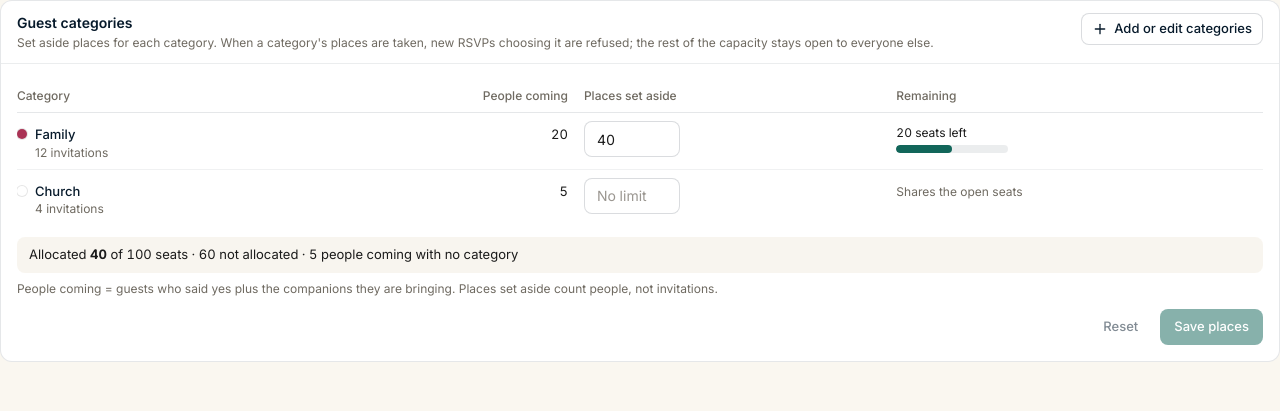
Test case: CategoryAllocations › shows the server message on a category row
Type "6" into the number field named "Places set aside for Church" at (632, 196), box [584, 178, 680, 214]
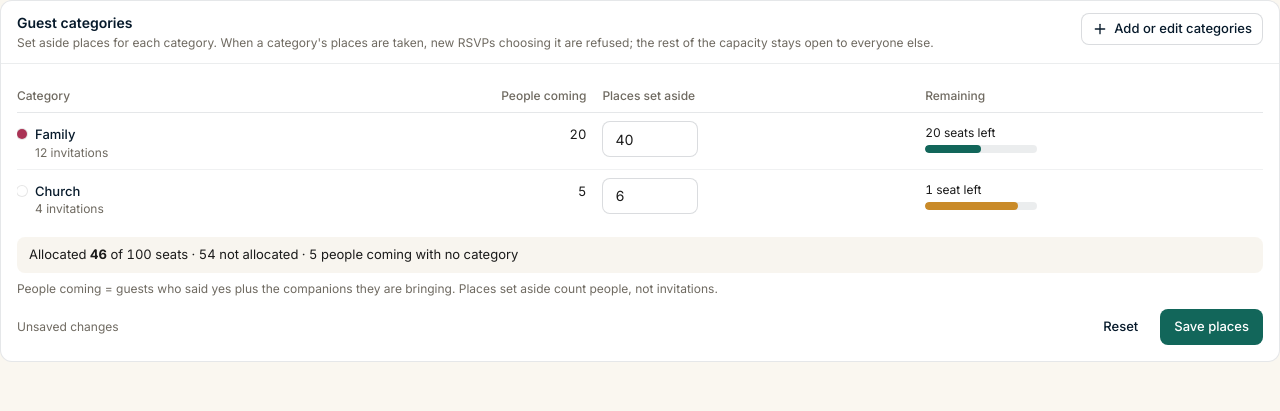
Click the button "Save places" at (1212, 326), box [1160, 308, 1263, 344]
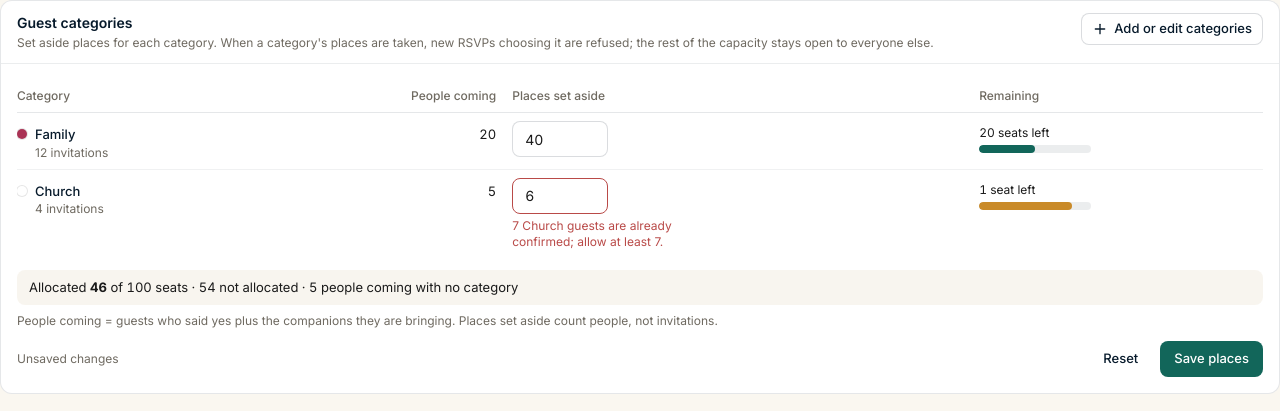
Result: the text "7 Church guests are already confirmed; allow at least 7." is shown at [512, 218, 688, 250]
